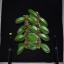leaf: (39, 43, 50, 54), (17, 43, 26, 55), (16, 26, 28, 34), (14, 34, 26, 42), (26, 33, 38, 41), (26, 17, 38, 25), (28, 9, 38, 18), (15, 15, 26, 23), (28, 25, 39, 33), (38, 34, 50, 41), (39, 26, 49, 34), (39, 18, 48, 26), (26, 40, 38, 46), (28, 45, 39, 50), (20, 26, 28, 30), (22, 14, 26, 19), (25, 32, 29, 35)
